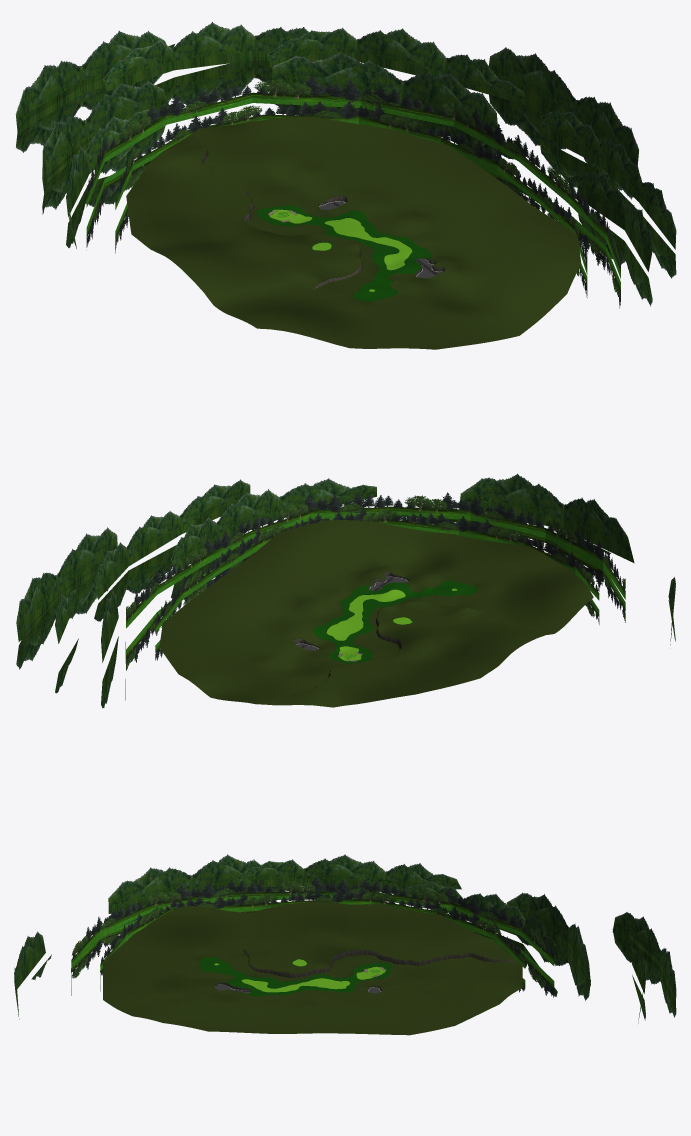
The model's file is glf_course_fc8.glb.
3 renders of one model, top to bottom at view 1: azimuth 30°, elevation 25°; view 2: azimuth 150°, elevation 25°; view 3: azimuth 270°, elevation 25°, orthographic. The views are drawn at different scales.
Visible parts, largest first — view 1: polygon22, polygon29, polygon27, polygon24, polygon2, polygon23; view 2: polygon22, polygon29, polygon27, polygon24, polygon2; view 3: polygon22, polygon29, polygon27, polygon24, polygon23, polygon2.
Boxes of the visible parts, x1=… form: polygon22: x1=126, y1=117, x2=581, y2=349; polygon29: x1=15, y1=22, x2=676, y2=306; polygon27: x1=86, y1=76, x2=620, y2=308; polygon24: x1=256, y1=205, x2=432, y2=301; polygon2: x1=269, y1=209, x2=412, y2=291; polygon23: x1=195, y1=135, x2=444, y2=289; polygon22: x1=159, y1=520, x2=593, y2=707; polygon29: x1=16, y1=473, x2=675, y2=708; polygon27: x1=125, y1=492, x2=625, y2=700; polygon24: x1=313, y1=580, x2=477, y2=664; polygon2: x1=326, y1=588, x2=456, y2=661; polygon22: x1=103, y1=901, x2=522, y2=1035; polygon29: x1=14, y1=854, x2=676, y2=1023; polygon27: x1=71, y1=877, x2=554, y2=997; polygon24: x1=200, y1=957, x2=390, y2=996; polygon23: x1=215, y1=948, x2=514, y2=991; polygon2: x1=214, y1=959, x2=385, y2=992.
Bounding box in the file's own units: 13590 × 2878 × 17694.
Materials: 16 (15 with a texture image).
